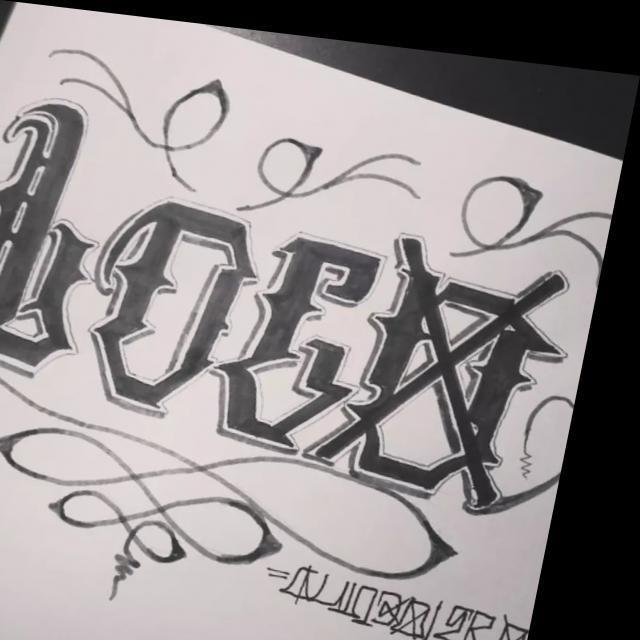-: (0, 0, 640, 639), (269, 532, 561, 640)
